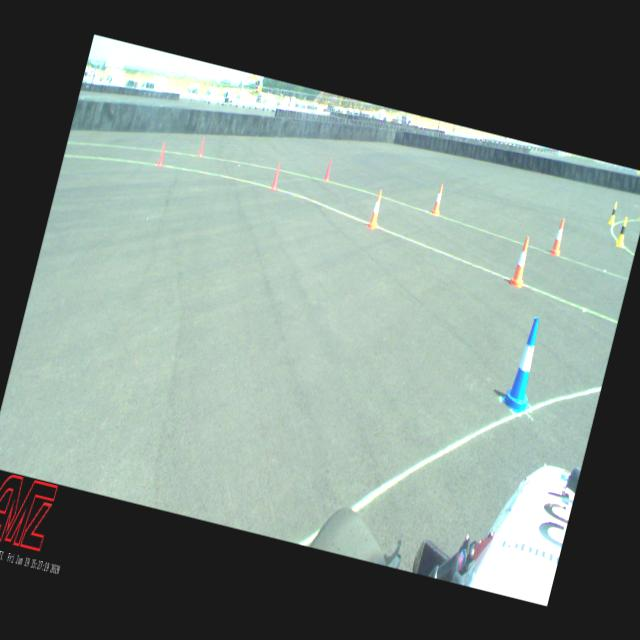blue_cone: (498, 313, 552, 419)
orange_cone: (508, 235, 534, 288), (366, 188, 386, 230), (548, 217, 568, 257), (430, 183, 446, 216)
yellow_cone: (614, 215, 630, 248), (606, 201, 618, 225), (638, 198, 640, 219)
